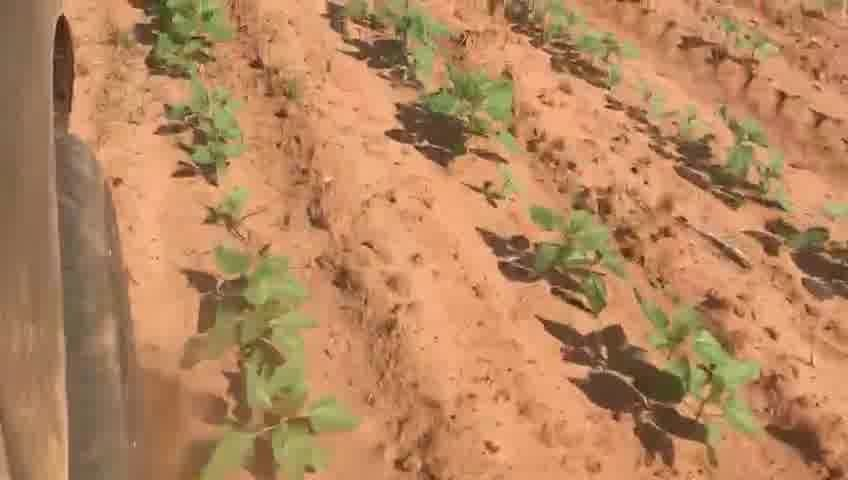sunflower: (187, 381, 361, 476), (644, 337, 768, 447), (513, 203, 628, 320), (411, 63, 527, 160), (203, 297, 317, 385), (197, 244, 317, 310), (716, 113, 798, 201), (158, 77, 254, 148), (362, 10, 448, 85), (141, 11, 236, 78), (185, 183, 281, 229), (632, 294, 697, 360), (174, 140, 250, 187), (572, 27, 639, 79), (532, 7, 581, 51), (481, 162, 524, 205), (641, 84, 674, 128), (597, 62, 634, 96)
